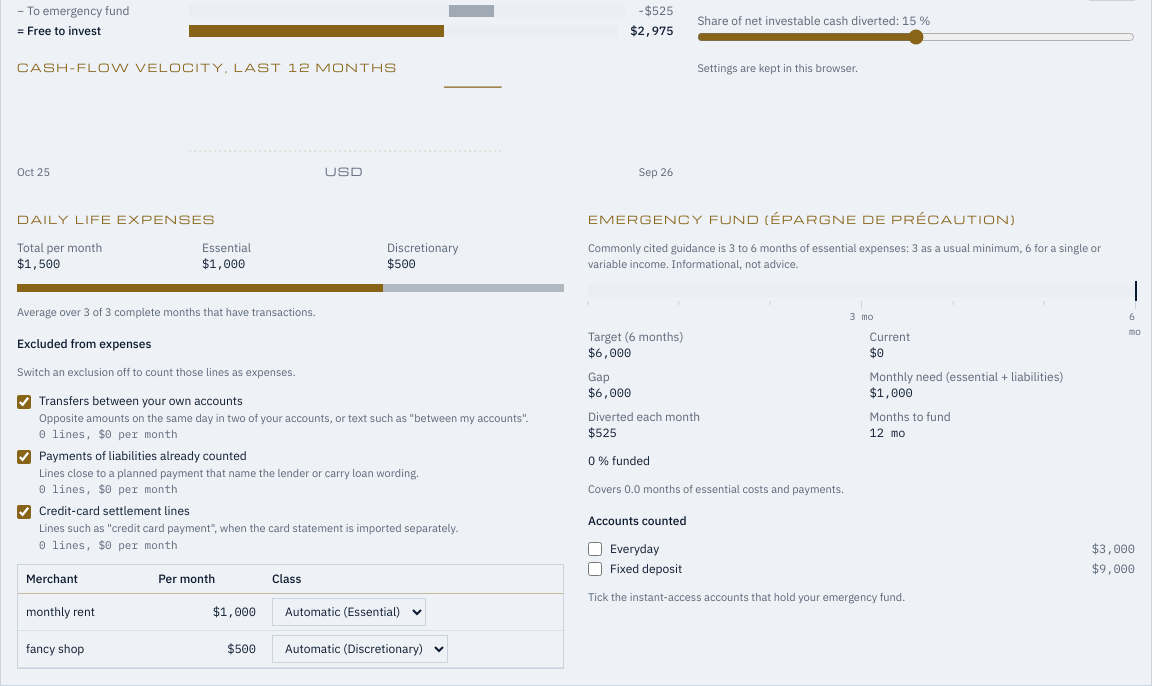
it: CashFlowWaterfall › marks a liquid account as emergency fund and counts its balance
(page scrolled)
Click the checkbox named "Count Everyday as emergency fund": (595, 549) [588,542,602,556]
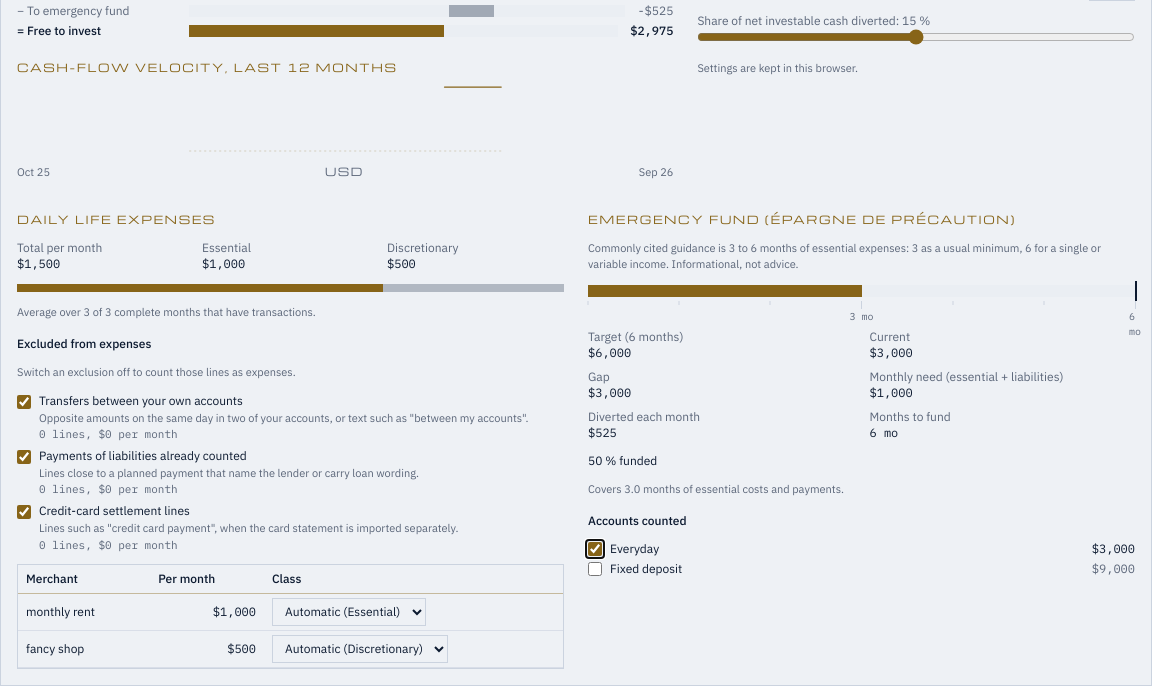
Check: the text "50 % funded" is shown, box [588,452,657,468]
